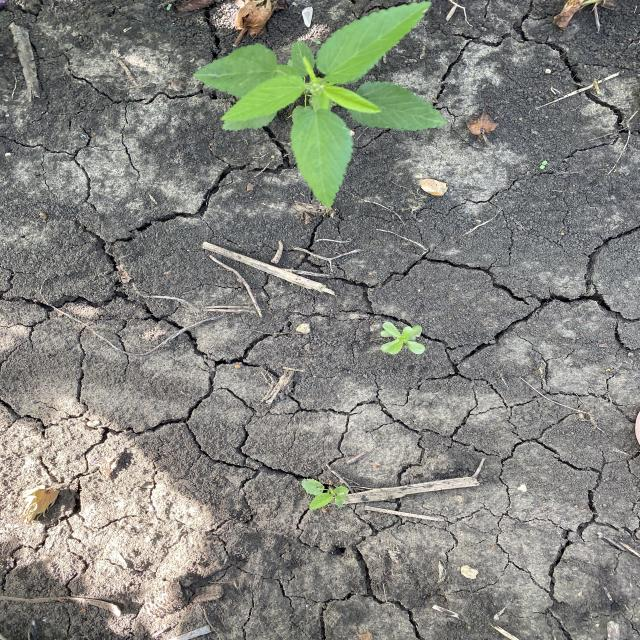PricklySida: (191, 2, 449, 211), (296, 477, 354, 513)
Purslane: (374, 319, 426, 357)
